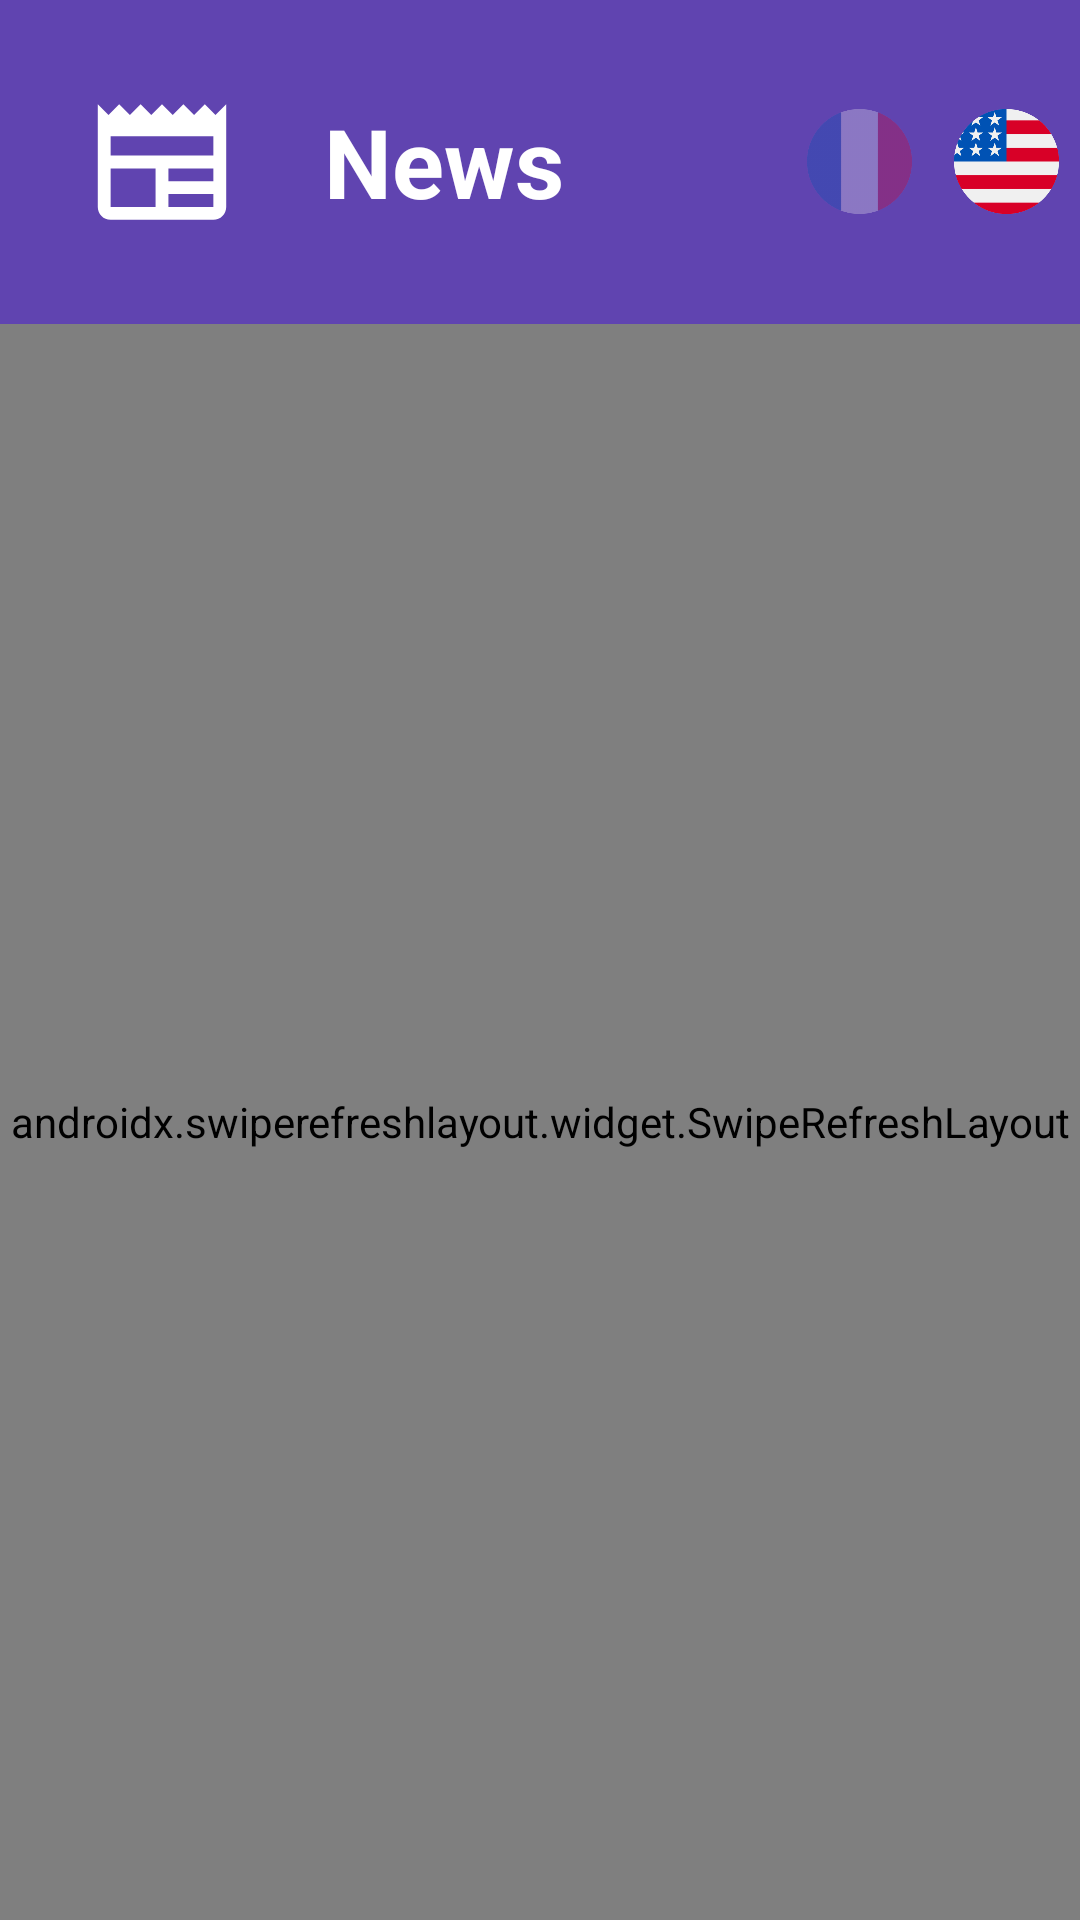

Icons on this 1080px x 1920px Android screen, each with its box as (x1, y1, x2, y2):
france: (807, 109, 912, 214)
united states: (954, 109, 1059, 214)
